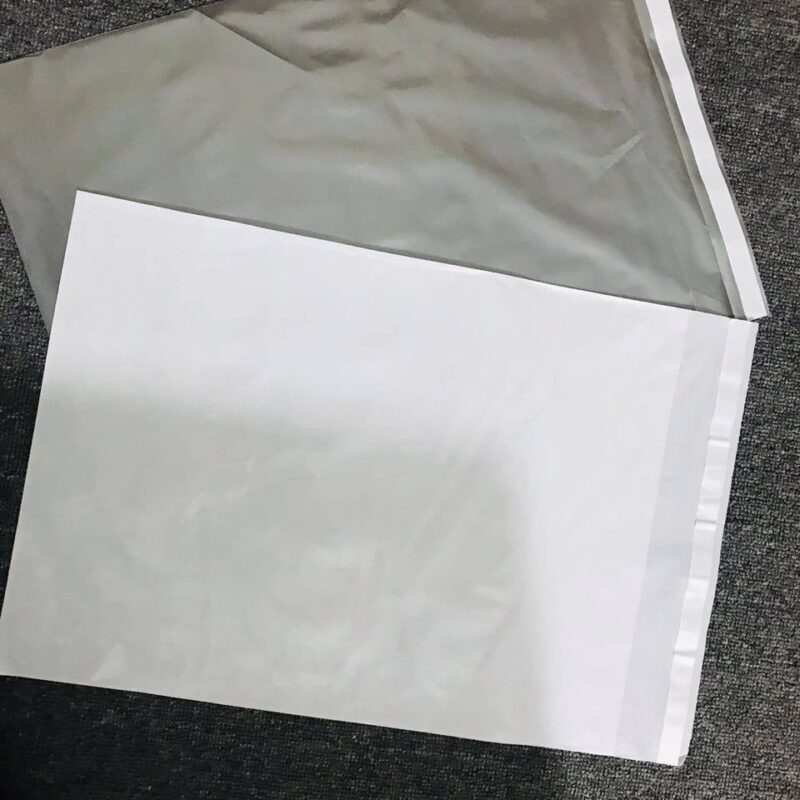塑料袋: (0, 194, 754, 763), (0, 0, 728, 312)
